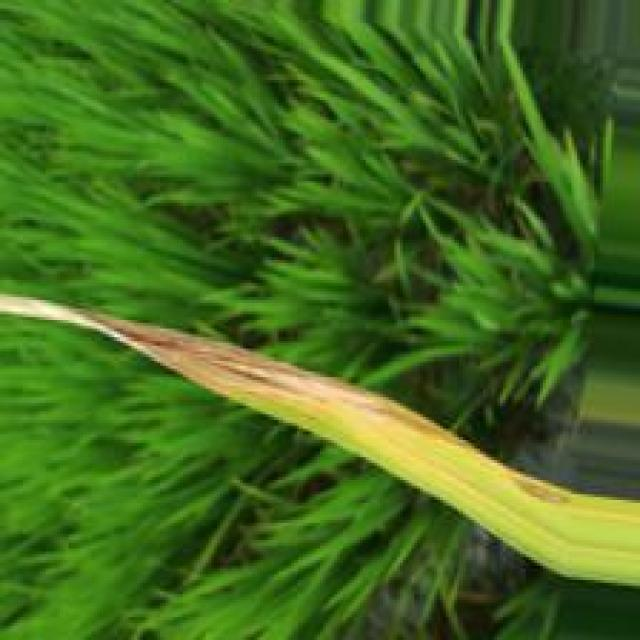Leaf_Scald: (82, 312, 467, 451)
